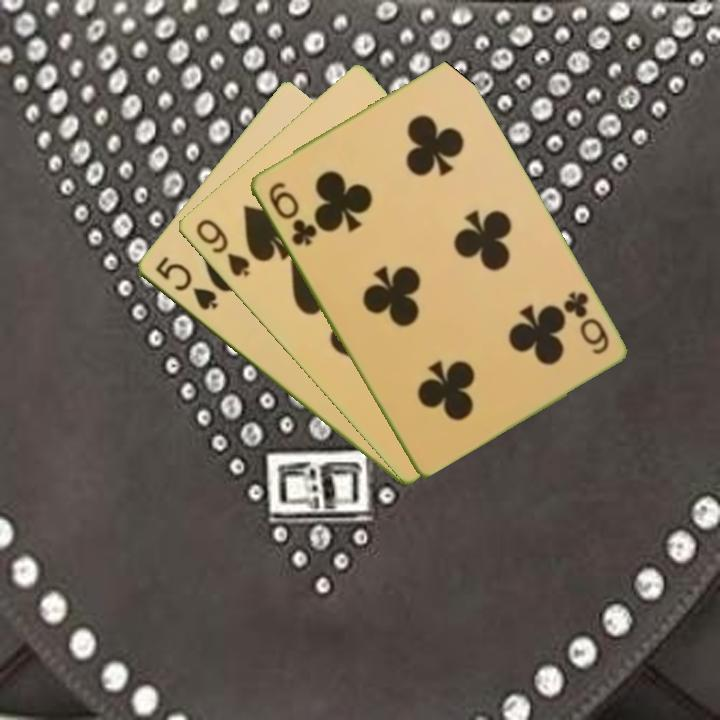5s: (151, 252, 221, 314)
6c: (264, 178, 319, 249), (559, 287, 612, 358)
9s: (191, 215, 253, 280)
